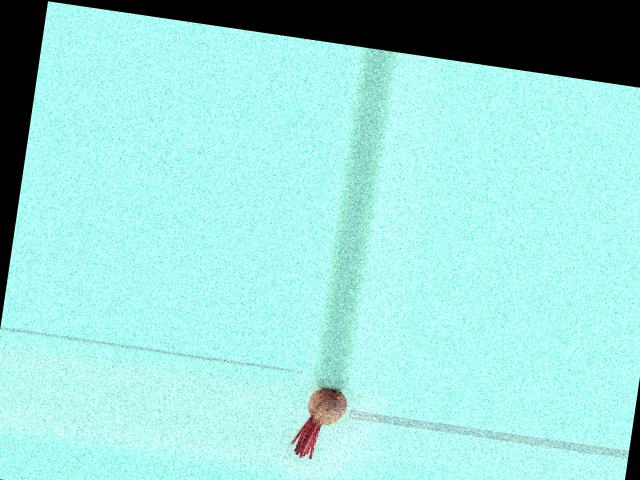beet: (290, 384, 349, 462)
